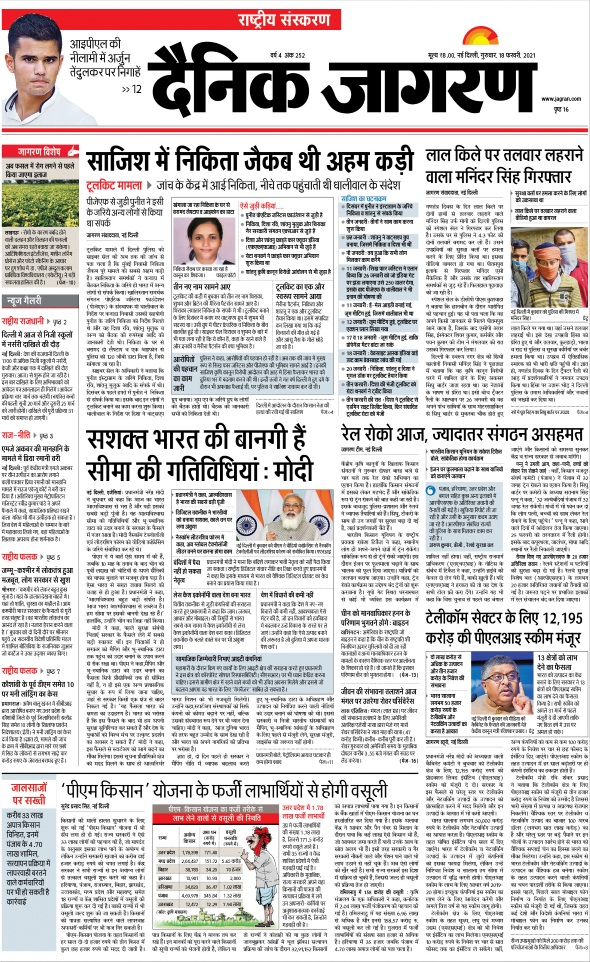news_paper: (2, 8, 590, 961)
